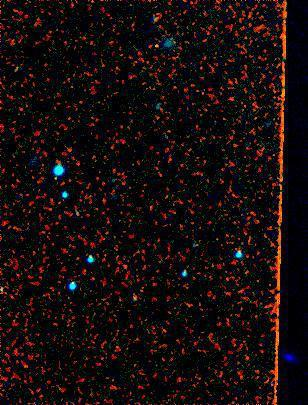star: (136, 30, 166, 60)
